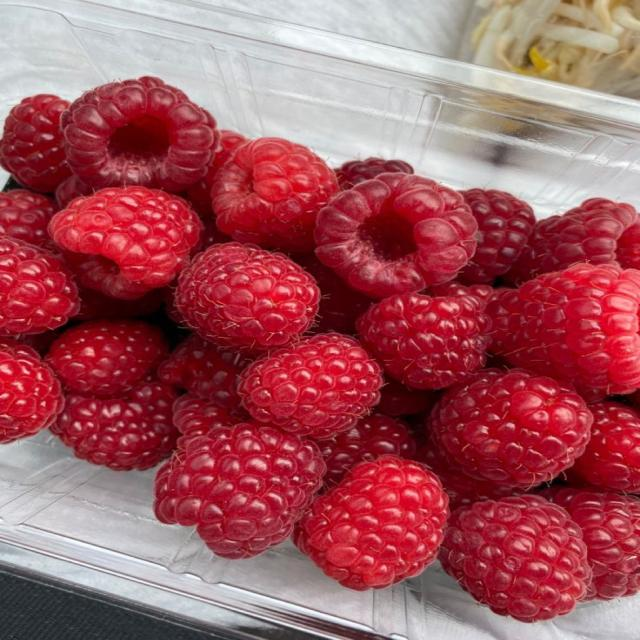raspberry: (154, 424, 325, 559), (295, 455, 448, 590), (487, 264, 639, 399), (315, 173, 477, 298), (428, 369, 593, 489), (439, 495, 591, 622), (61, 77, 219, 191), (50, 187, 202, 299), (175, 243, 319, 349), (239, 334, 382, 439), (212, 138, 339, 251), (358, 294, 490, 389), (51, 382, 179, 470), (505, 199, 638, 283), (542, 488, 639, 600), (47, 320, 167, 396), (0, 237, 79, 335), (415, 439, 520, 510), (320, 413, 416, 487), (460, 189, 535, 283), (159, 335, 252, 409), (0, 94, 70, 192), (0, 340, 63, 443), (294, 254, 373, 334), (571, 402, 639, 493), (186, 130, 246, 218), (64, 252, 153, 300), (174, 393, 246, 446), (0, 190, 58, 249), (74, 288, 163, 320), (335, 158, 413, 189), (377, 377, 437, 416), (427, 281, 495, 304), (55, 175, 94, 208), (13, 329, 60, 356), (616, 216, 639, 268), (160, 285, 186, 326), (200, 218, 232, 250)
